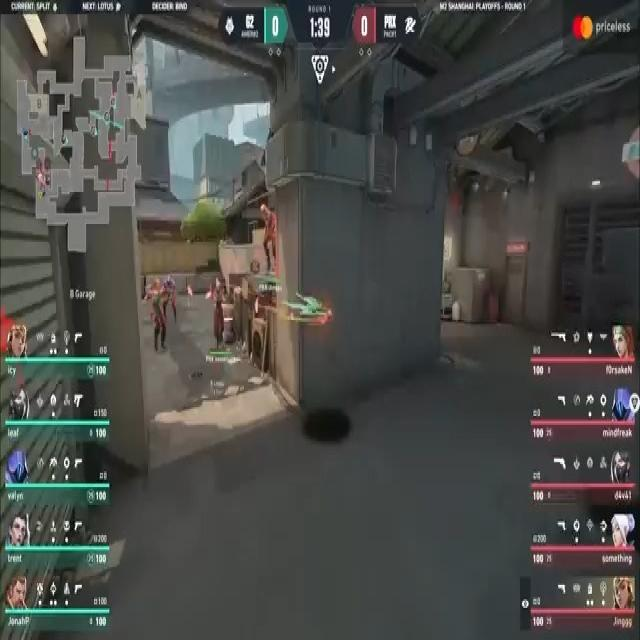enemy: (257, 202, 276, 276), (150, 282, 167, 354), (211, 280, 227, 352), (163, 275, 178, 321)
